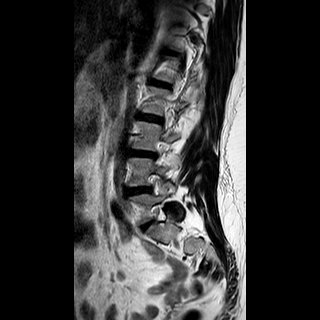RFS0: (146, 198, 173, 229)
